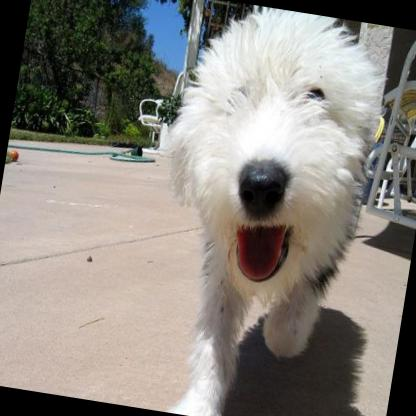Old_English_sheepdog: (119, 0, 395, 416)
